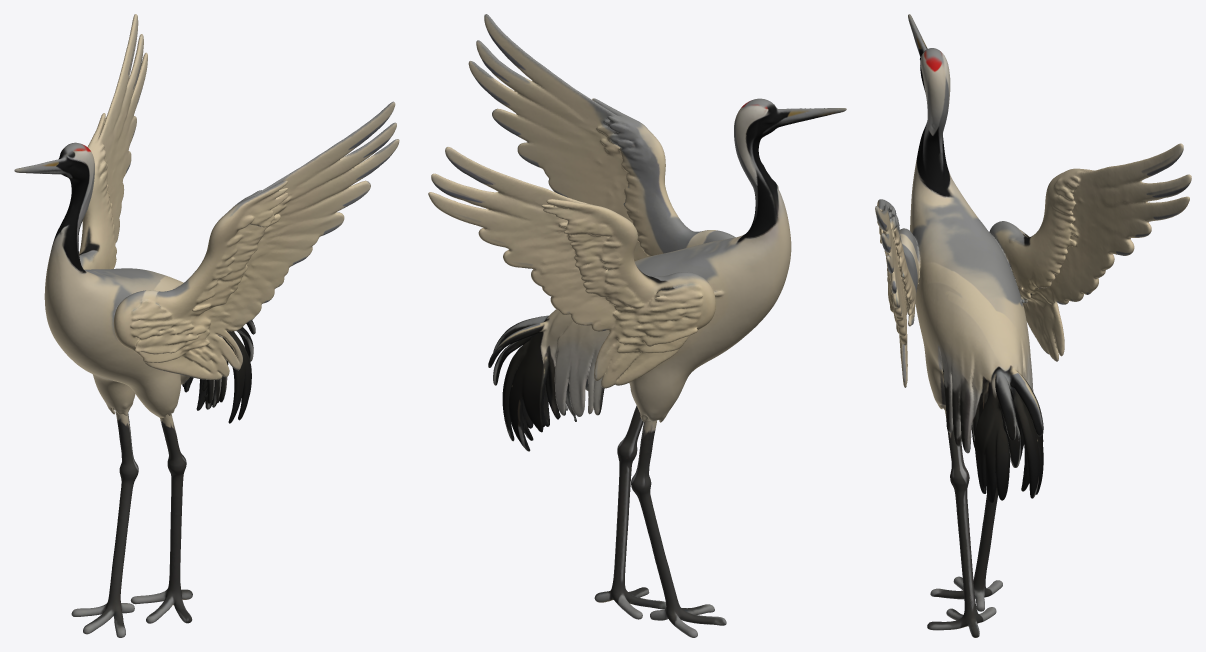
The model's file is crane_A_h25.glb.
3 renders of one model, left to right at view 1: azimuth 30°, elevation 25°; view 2: azimuth 150°, elevation 25°; view 3: azimuth 270°, elevation 25°, orthographic. The views are drawn at different scales.
Parts seen in each view (by area): view 1: tripo_node_733fd7ab-9e04-4226-86ba-1dbfd3742d40; view 2: tripo_node_733fd7ab-9e04-4226-86ba-1dbfd3742d40; view 3: tripo_node_733fd7ab-9e04-4226-86ba-1dbfd3742d40.
Part boxes in pixels (<box>): tripo_node_733fd7ab-9e04-4226-86ba-1dbfd3742d40: <box>14,14,399,637</box>; tripo_node_733fd7ab-9e04-4226-86ba-1dbfd3742d40: <box>428,14,846,637</box>; tripo_node_733fd7ab-9e04-4226-86ba-1dbfd3742d40: <box>875,14,1191,637</box>.
Bounding box in the file's own units: 0.7752 × 1 × 0.5488.
1 material, 1 textured.
